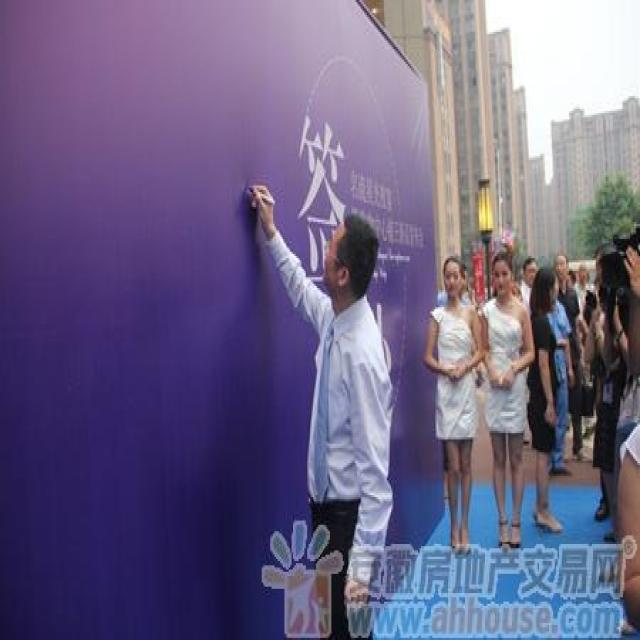head: (324, 215, 384, 316), (492, 245, 519, 305), (536, 266, 563, 314), (441, 252, 466, 303), (524, 254, 540, 290), (554, 252, 570, 286)
